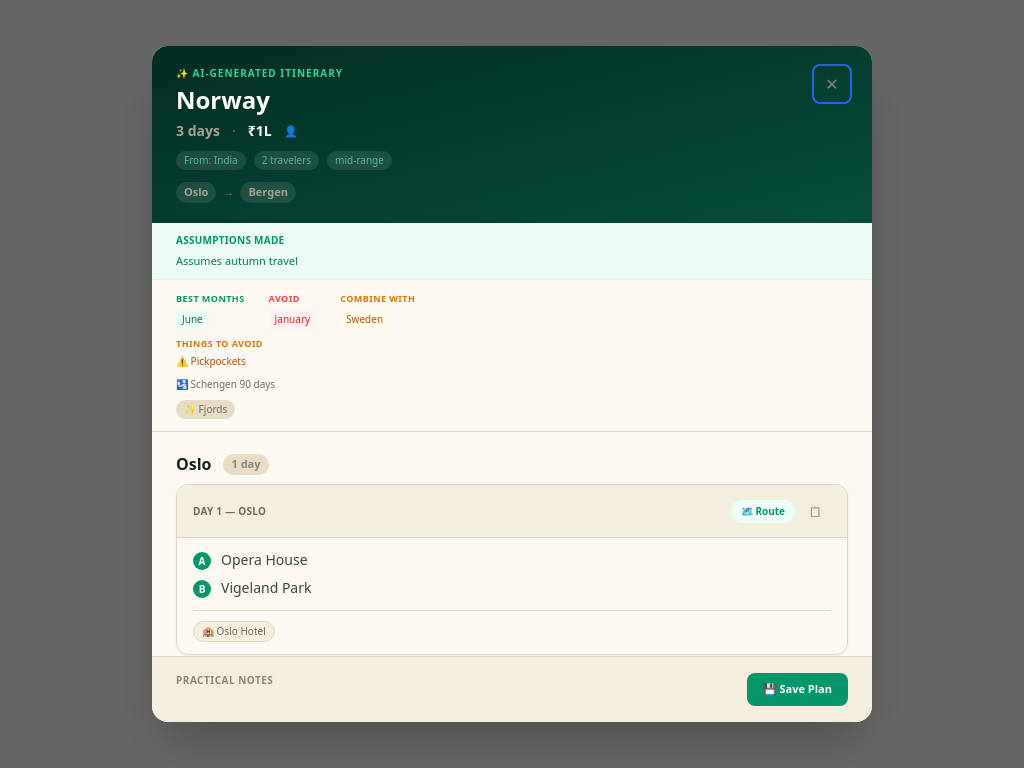
it: AiItineraryModal › saves a plan directly when no existing plans need comparison
Click the button "💾 Save Plan".
click(797, 690)  # box [747, 673, 848, 706]
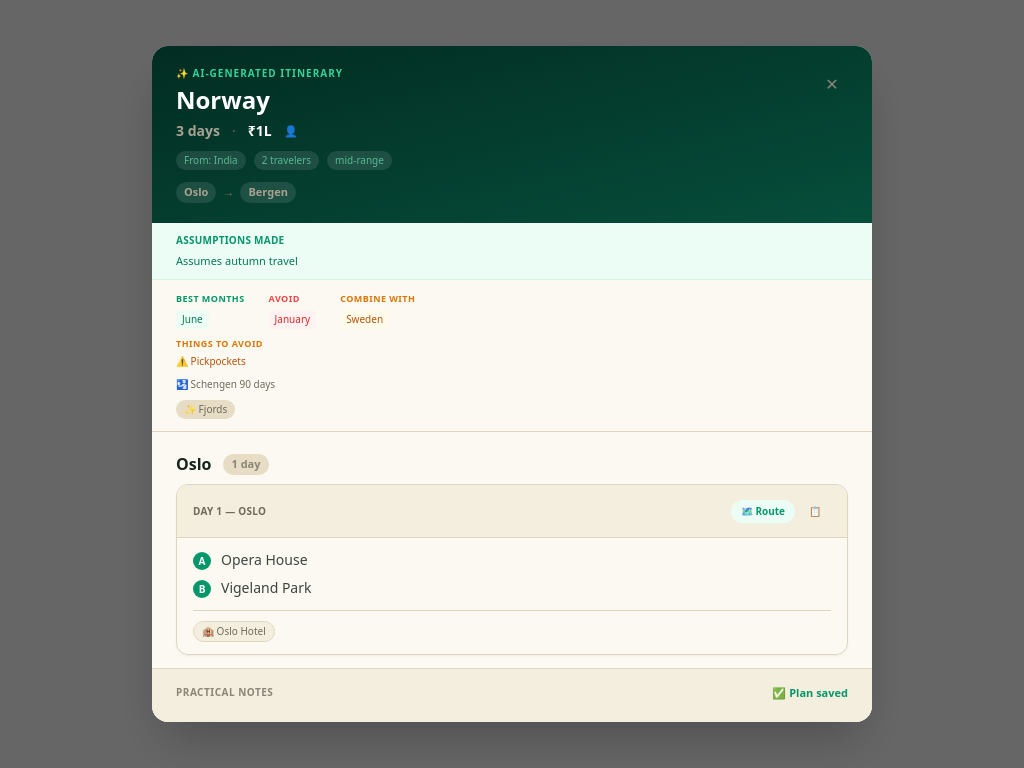
expect the text "✅ Plan saved" is shown: met, box [772, 685, 848, 701]
